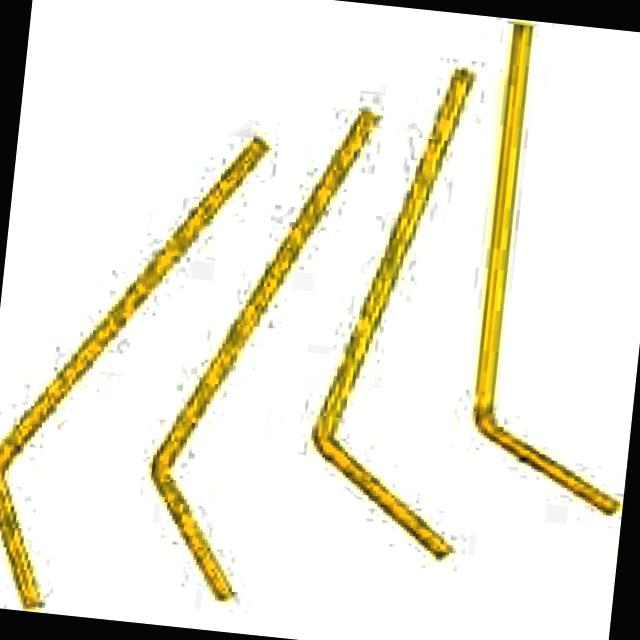plastic straw: (0, 140, 266, 611), (153, 112, 377, 601), (312, 70, 473, 559), (474, 23, 619, 515)
